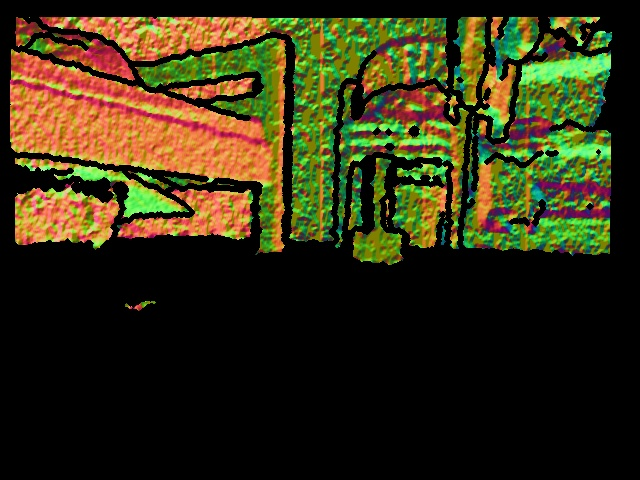station: (350, 153, 406, 267)
